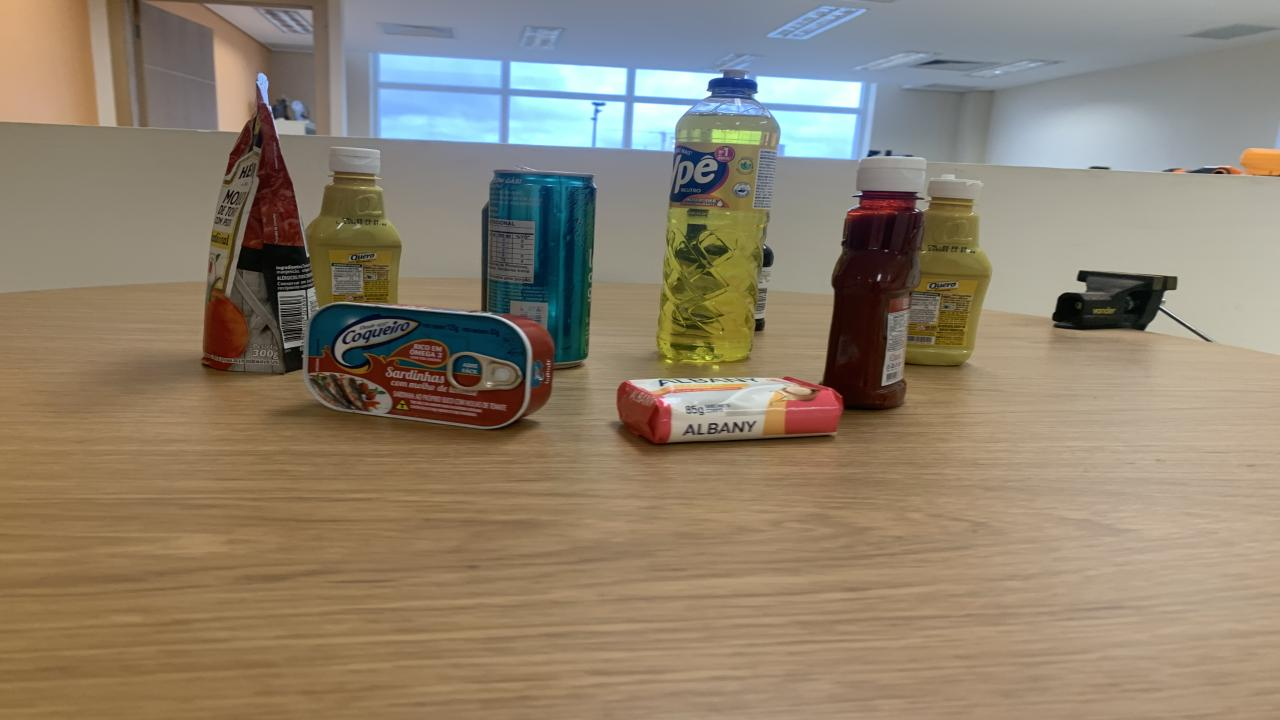Detergent-Cleanup_Items: (658, 69, 780, 362)
Ketchup-Pantry_Items: (822, 158, 925, 409)
Mustard-Pantry_Items: (905, 174, 992, 366), (308, 148, 402, 308)
Soap-Cleanup_Items: (618, 377, 842, 444)
Tea-Drinks: (482, 169, 595, 368)
Tomato_Sauce-Pantry_Items: (202, 77, 318, 373)
Tuna_Can-Pantry_Items: (305, 302, 555, 429)
